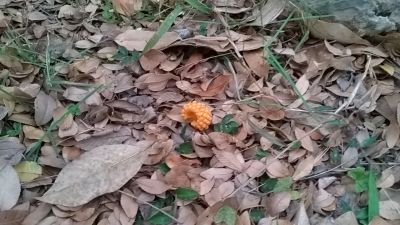eggs: (180, 99, 216, 131)
